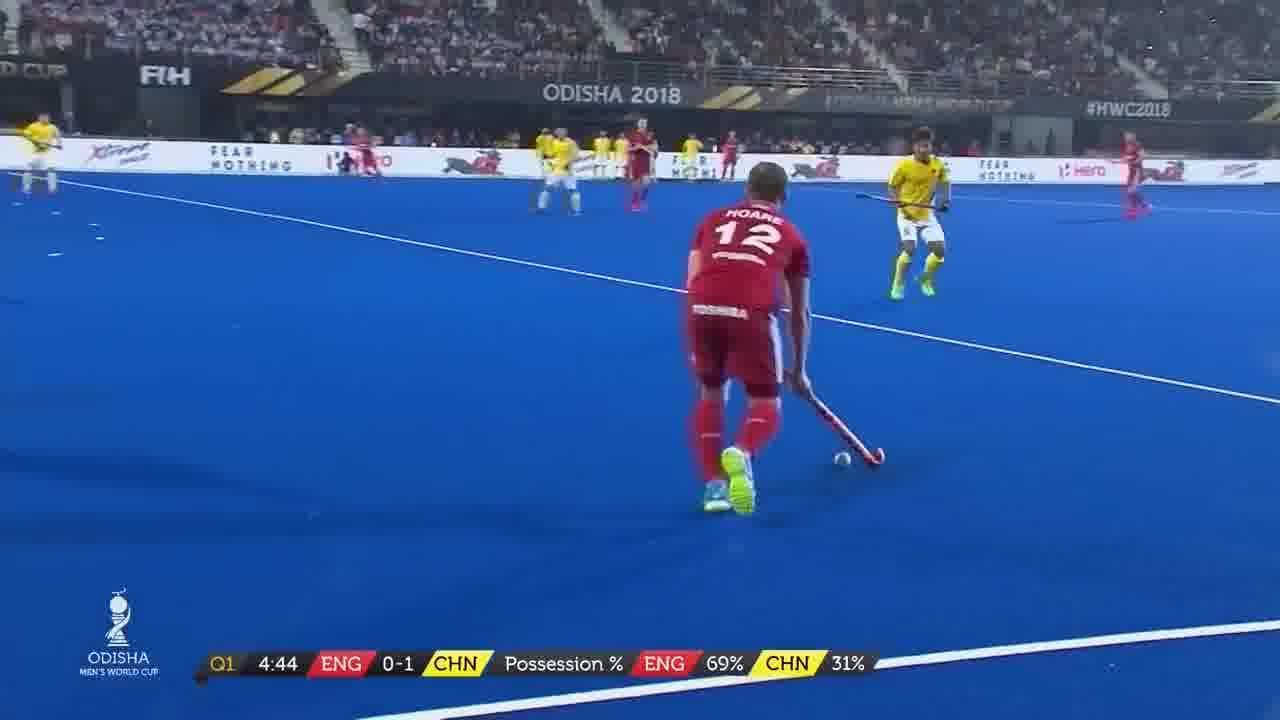ball: (826, 442, 854, 474)
